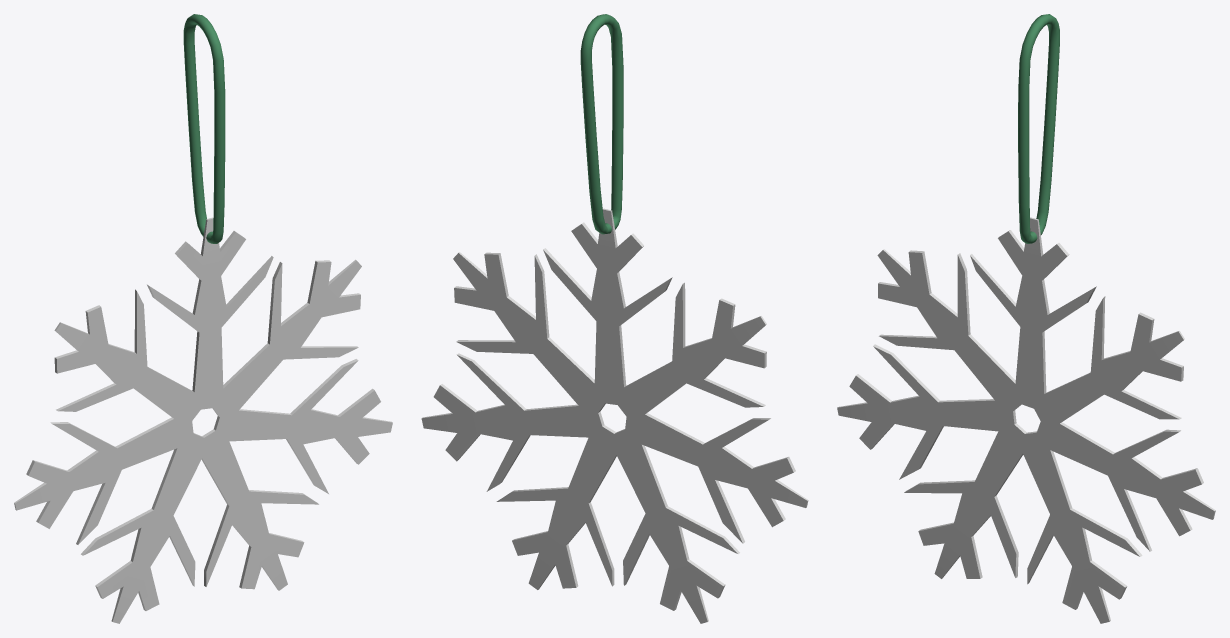
Rendered from patill2.fbx.
3 renders of one model, left to right at view 1: azimuth 30°, elevation 25°; view 2: azimuth 150°, elevation 25°; view 3: azimuth 330°, elevation 25°, orthographic. The views are drawn at different scales.
Visible parts, largest first — view 1: Cube.002, Sphere.005; view 2: Cube.002, Sphere.005; view 3: Cube.002, Sphere.005.
Boxes of the visible parts, x1,y1,x2,y2 form: Cube.002: (14,217,392,623); Sphere.005: (183,14,225,243); Cube.002: (421,208,808,623); Sphere.005: (580,14,623,234); Cube.002: (837,217,1215,623); Sphere.005: (1018,14,1059,243).
Size of the model in its own units: 44.92 by 66.36 by 7.49.
